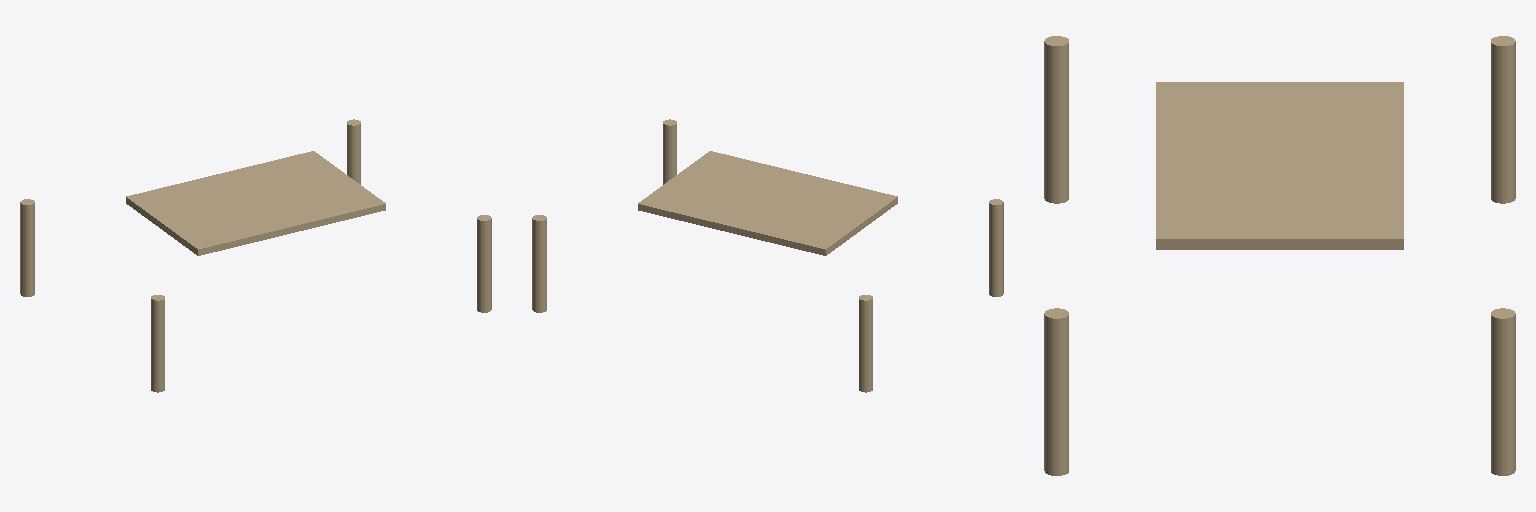
robot.urdf — simple_table:
<?xml version="1.0" ?>
<robot name="simple_table">

  <!-- Table top link -->
  <link name="table_top">
    <visual>
      <origin xyz="0 0 0.75" rpy="0 0 0"/>
      <geometry>
        <box size="1.5 1 0.05"/>
      </geometry>
      <material name="wood">
        <color rgba="0.76 0.69 0.57 1"/>
      </material>
    </visual>
    <collision>
      <origin xyz="0 0 0.75" rpy="0 0 0"/>
      <geometry>
        <box size="1.5 1 0.05"/>
      </geometry>
    </collision>
  </link>

  <!-- First leg of the table -->
  <link name="leg1">
    <visual>
      <origin xyz="-0.65 -0.45 0.35" rpy="0 0 0"/>
      <geometry>
        <cylinder radius="0.05" length="0.7"/>
      </geometry>
      <material name="wood"/>
    </visual>
    <collision>
      <origin xyz="-0.65 -0.45 0.35" rpy="0 0 0"/>
      <geometry>
        <cylinder radius="0.05" length="0.7"/>
      </geometry>
    </collision>
  </link>

  <!-- Fixed joint connecting the first leg to the table top -->
  <joint name="joint1" type="fixed">
    <parent link="table_top"/>
    <child link="leg1"/>
    <origin xyz="-0.65 -0.45 0" rpy="0 0 0"/>
  </joint>

  <!-- Second leg of the table -->
  <link name="leg2">
    <visual>
      <origin xyz="-0.65 0.45 0.35" rpy="0 0 0"/>
      <geometry>
        <cylinder radius="0.05" length="0.7"/>
      </geometry>
      <material name="wood"/>
    </visual>
    <collision>
      <origin xyz="-0.65 0.45 0.35" rpy="0 0 0"/>
      <geometry>
        <cylinder radius="0.05" length="0.7"/>
      </geometry>
    </collision>
  </link>

  <!-- Fixed joint connecting the second leg to the table top -->
  <joint name="joint2" type="fixed">
    <parent link="table_top"/>
    <child link="leg2"/>
    <origin xyz="-0.65 0.45 0" rpy="0 0 0"/>
  </joint>

  <!-- Third leg of the table -->
  <link name="leg3">
    <visual>
      <origin xyz="0.65 -0.45 0.35" rpy="0 0 0"/>
      <geometry>
        <cylinder radius="0.05" length="0.7"/>
      </geometry>
      <material name="wood"/>
    </visual>
    <collision>
      <origin xyz="0.65 -0.45 0.35" rpy="0 0 0"/>
      <geometry>
        <cylinder radius="0.05" length="0.7"/>
      </geometry>
    </collision>
  </link>

  <!-- Fixed joint connecting the third leg to the table top -->
  <joint name="joint3" type="fixed">
    <parent link="table_top"/>
    <child link="leg3"/>
    <origin xyz="0.65 -0.45 0" rpy="0 0 0"/>
  </joint>

  <!-- Fourth leg of the table -->
  <link name="leg4">
    <visual>
      <origin xyz="0.65 0.45 0.35" rpy="0 0 0"/>
      <geometry>
        <cylinder radius="0.05" length="0.7"/>
      </geometry>
      <material name="wood"/>
    </visual>
    <collision>
      <origin xyz="0.65 0.45 0.35" rpy="0 0 0"/>
      <geometry>
        <cylinder radius="0.05" length="0.7"/>
      </geometry>
    </collision>
  </link>

  <!-- Fixed joint connecting the fourth leg to the table top -->
  <joint name="joint4" type="fixed">
    <parent link="table_top"/>
    <child link="leg4"/>
    <origin xyz="0.65 0.45 0" rpy="0 0 0"/>
  </joint>

</robot>

--- Facts derived from the render (not from the file) ---
The picture shows the robot from 3 angles, left to right: view 1: azimuth 30°, elevation 25°; view 2: azimuth 150°, elevation 25°; view 3: azimuth 270°, elevation 25°; orthographic projection.
Robot: simple_table — 5 links, 4 joints (4 fixed); root link table_top; default pose: all joints at 0.
Visible links, largest first — view 1: table_top, leg2, leg3, leg1, leg4; view 2: table_top, leg1, leg4, leg2, leg3; view 3: table_top, leg1, leg2, leg3, leg4.
Link boxes in pixels (left/top/right/bottom): table_top: left=126, top=151, right=385, bottom=255; leg2: left=20, top=199, right=34, bottom=296; leg3: left=477, top=215, right=491, bottom=312; leg1: left=151, top=295, right=164, bottom=392; leg4: left=347, top=119, right=360, bottom=184; table_top: left=638, top=151, right=897, bottom=255; leg1: left=989, top=199, right=1003, bottom=296; leg4: left=532, top=215, right=546, bottom=312; leg2: left=859, top=295, right=872, bottom=392; leg3: left=663, top=119, right=676, bottom=184; table_top: left=1156, top=82, right=1403, bottom=249; leg1: left=1044, top=36, right=1068, bottom=203; leg2: left=1491, top=36, right=1515, bottom=203; leg3: left=1044, top=308, right=1068, bottom=475; leg4: left=1491, top=308, right=1515, bottom=475.
Bounding box of the posed robot: 2.7 × 1.9 × 0.775 m (x, y, z).
Geometry: primitives only (box / cylinder / sphere), no mesh files.